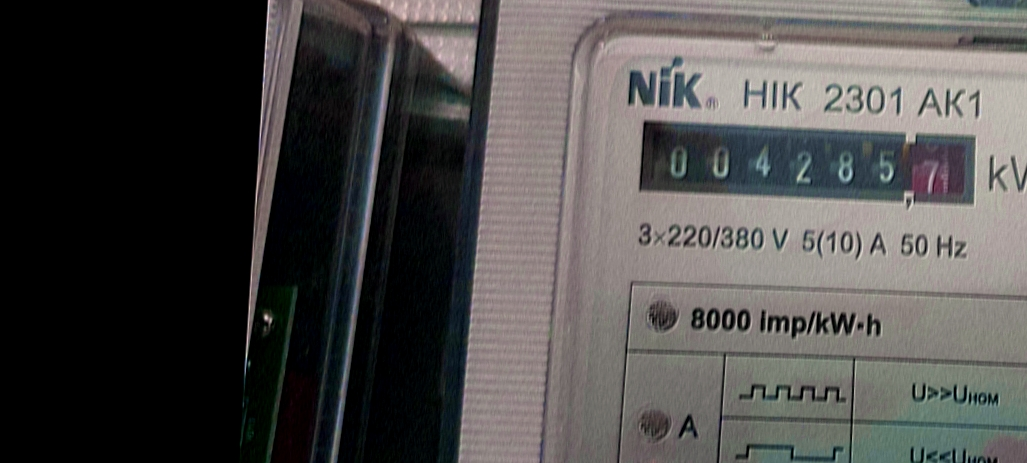0: (666, 141, 690, 178), (709, 141, 732, 179)
2: (792, 147, 814, 184)
4: (753, 140, 772, 176)
5: (874, 145, 897, 182)
7: (918, 156, 940, 193)
8: (833, 146, 856, 184)
screen: (622, 102, 993, 224)
